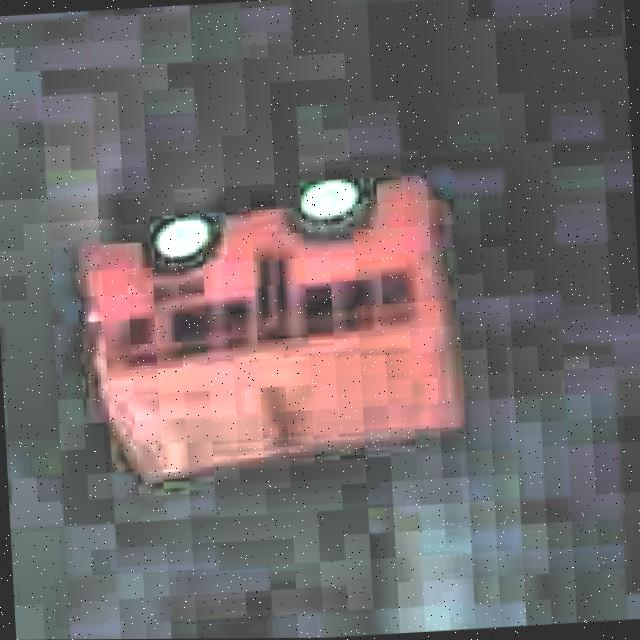bus: (65, 158, 468, 496)
